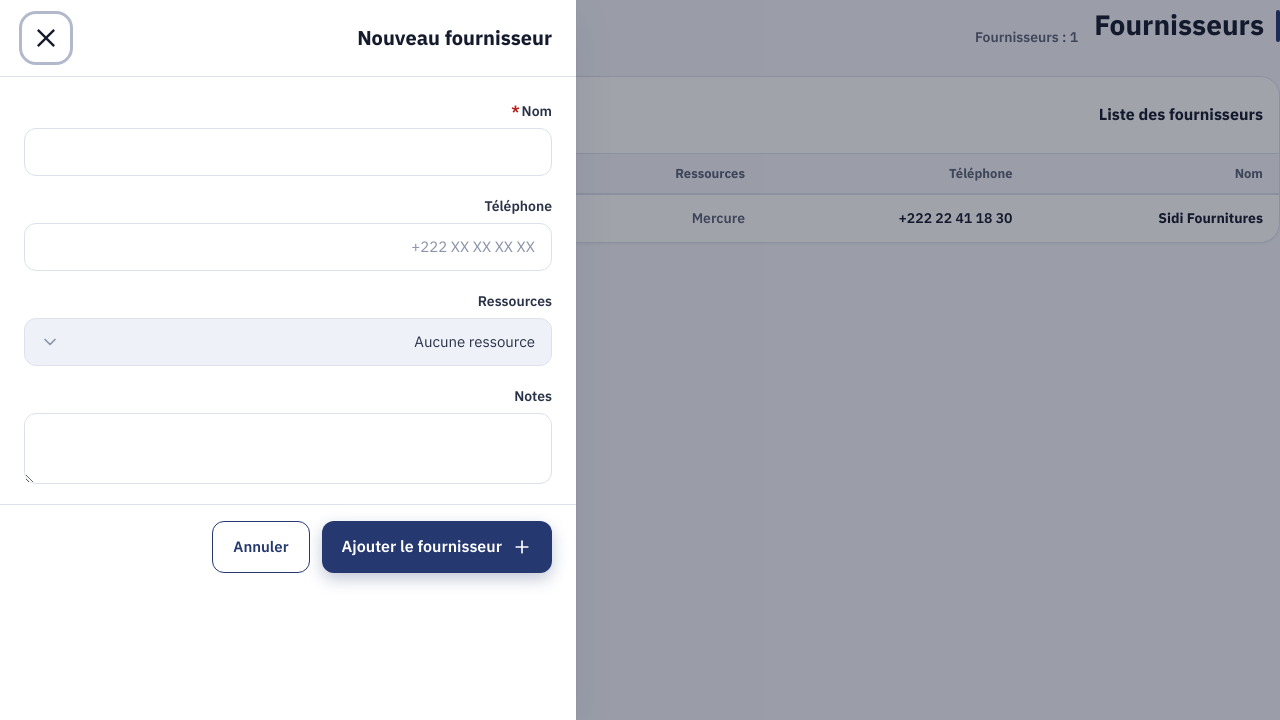
SuppliersScreen › requires the supplier's name
Click the button "Ajouter le fournisseur" at (437, 547), box [322,521,552,573]
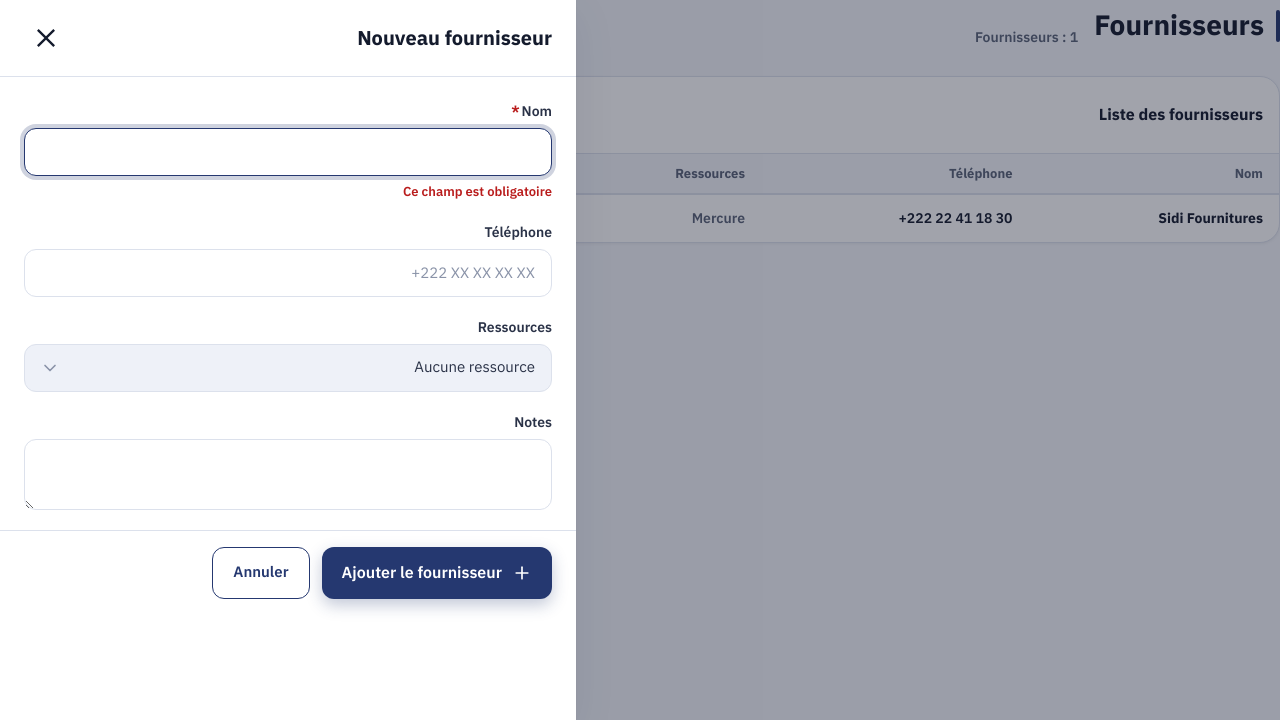
Expected: the text "Ce champ est obligatoire" is shown, [403,182,552,201]
